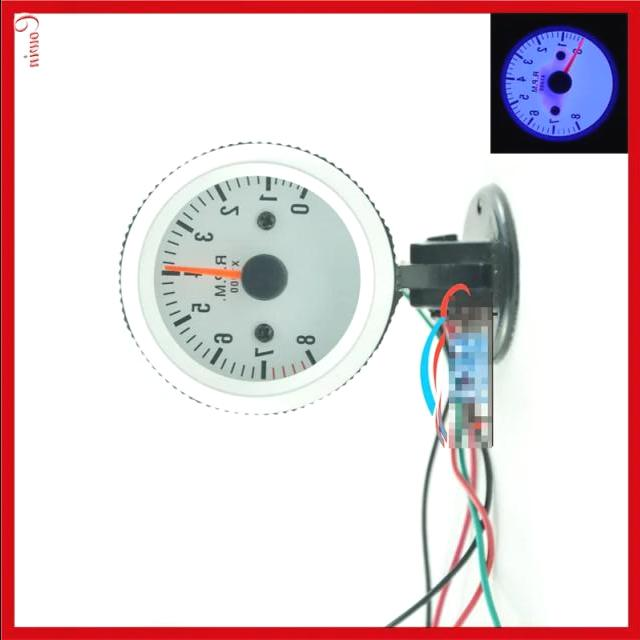Needle_Tip: (147, 237, 196, 300)
Needle_base: (228, 244, 295, 314)
max_value: (290, 322, 327, 356)
min_value: (285, 197, 324, 226)
